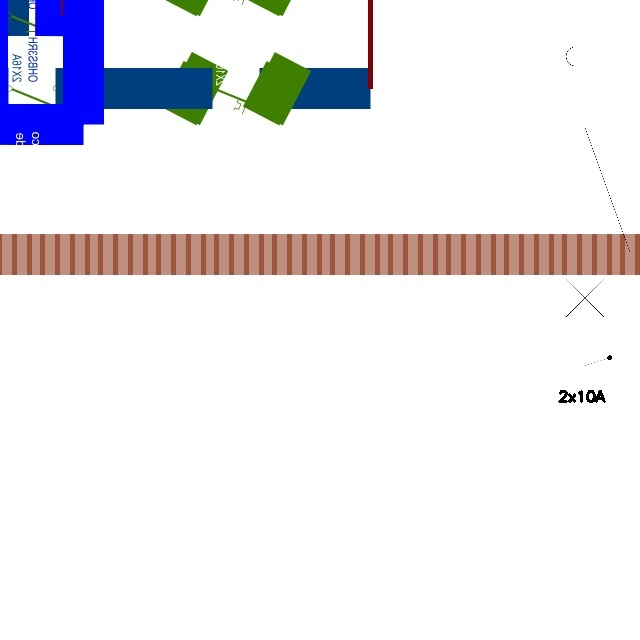interruptor_termomagnetico: (558, 15, 638, 344)
